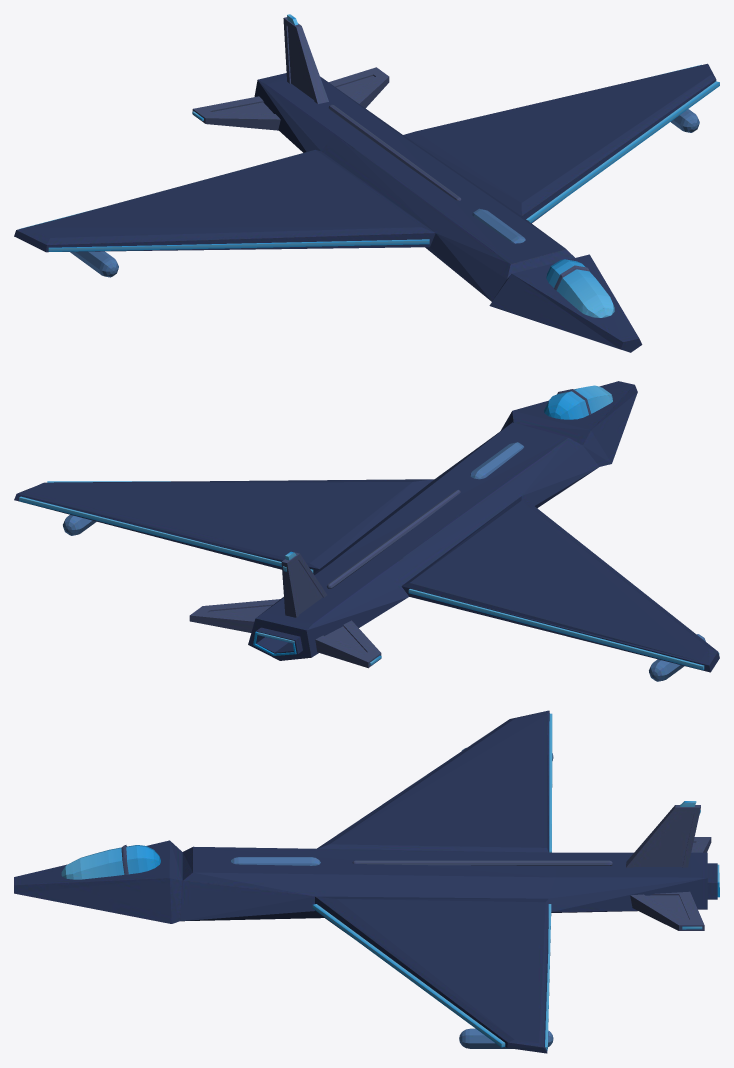
Rendered from jet_generic_google_poly.obj.
The picture shows the model from 3 angles, top to bottom: view 1: azimuth 30°, elevation 25°; view 2: azimuth 150°, elevation 25°; view 3: azimuth 270°, elevation 25°; orthographic projection.
Visible parts, largest first — view 1: Node; view 2: Node; view 3: Node.
Part boxes in pixels (<box>): Node: <box>14,14,719,352</box>; Node: <box>14,381,719,681</box>; Node: <box>14,710,719,1053</box>.
Bounding box in the file's own units: 946 × 141 × 833.
1 material, 1 textured.
